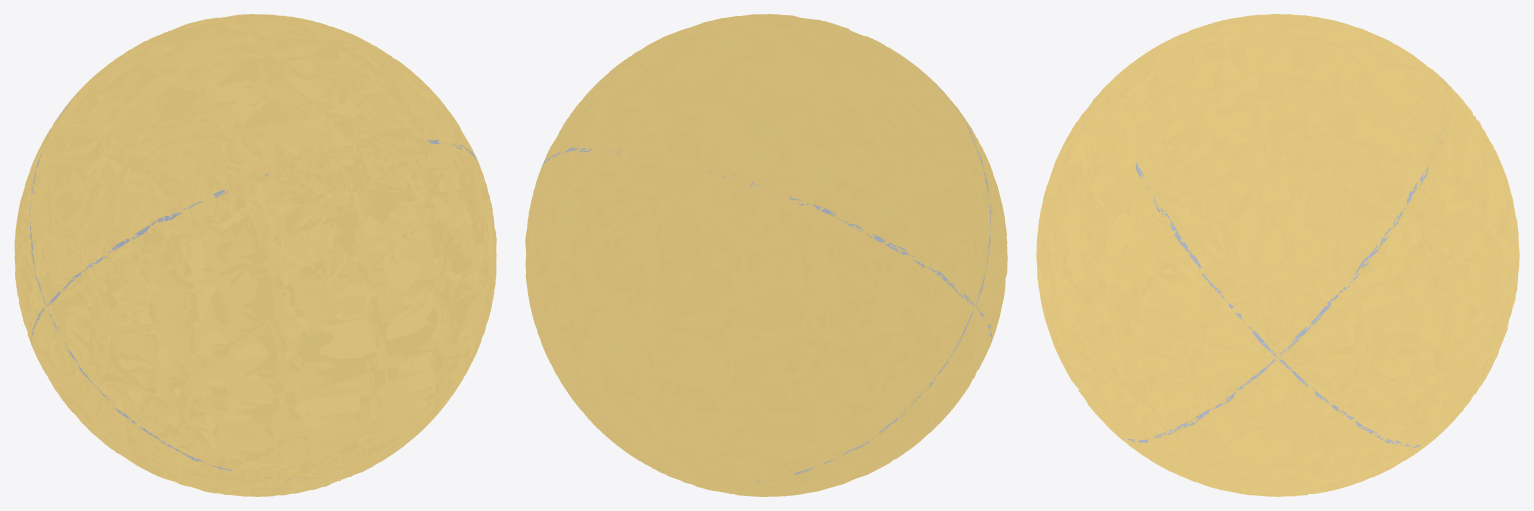
Rendered from dg-north-C.glb.
3 renders of one model, left to right at view 1: azimuth 30°, elevation 25°; view 2: azimuth 150°, elevation 25°; view 3: azimuth 270°, elevation 25°, orthographic.
Visible parts, largest first — view 1: anodes, structure; view 2: anodes, structure; view 3: anodes, structure.
Part boxes in pixels (box(x1,y1,x2,y2)): anodes: box(14, 14, 496, 496); structure: box(29, 92, 477, 480); anodes: box(525, 14, 1007, 496); structure: box(542, 84, 992, 483); anodes: box(1036, 14, 1519, 496); structure: box(1116, 80, 1447, 447).
Bounding box in the file's own units: 2 × 2 × 2.
